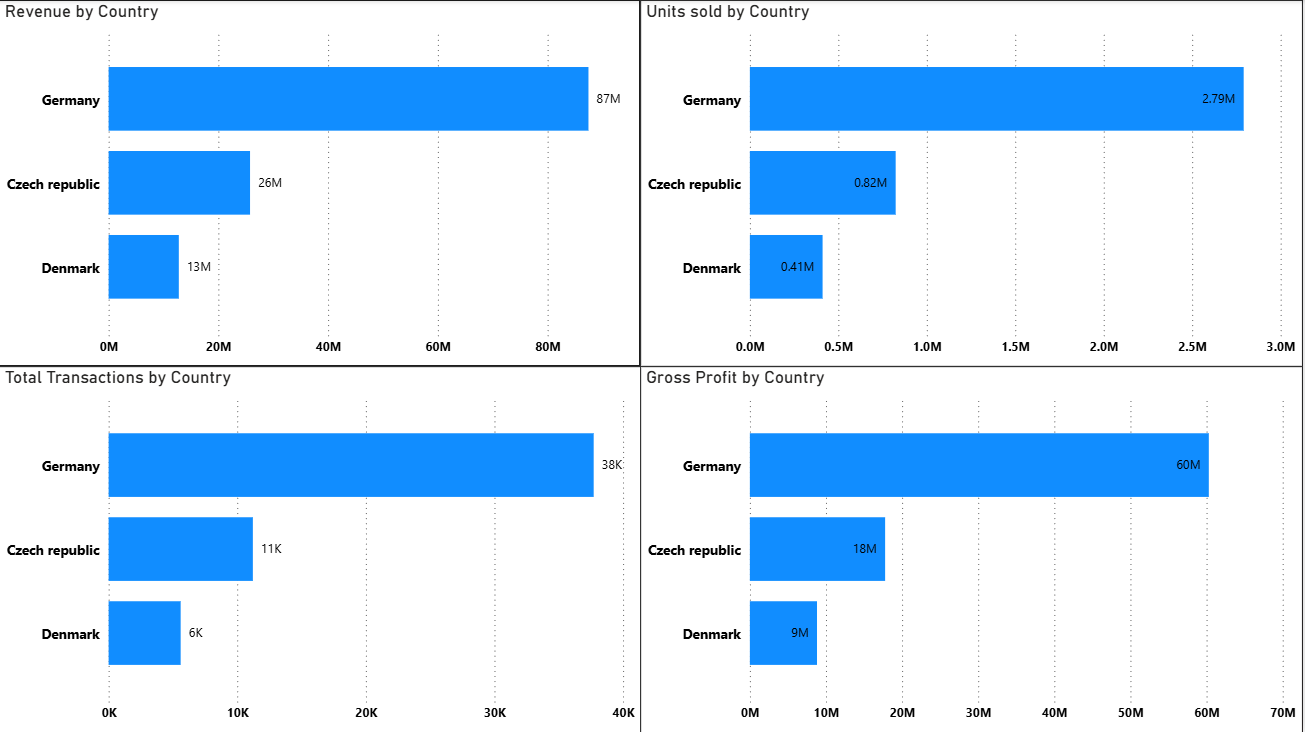

Layout of this report page (visuals, bound fields, positions):
{"tool":"powerbi","page":{"name":"Country/Town-wise Performance","canvas":[1280,720],"ordinal":5},"visuals":[{"type":"clusteredBarChart","title":"Revenue by Country","fields":{"Category":["DimGeography.Country","DimGeography.Town"],"Y":["Sum(FactSales.Total Revenue)"]},"box":[0,0,630,360],"z":0},{"type":"clusteredBarChart","title":"Units sold by Country","fields":{"Category":["DimGeography.Country","DimGeography.Town"],"Y":["Sum(FactSales.Units)"]},"box":[630,0,650,360],"z":1000},{"type":"clusteredBarChart","title":"Total Transactions by Country","fields":{"Category":["DimGeography.Country","DimGeography.Town"],"Y":["FactSales.Total Transactions"]},"box":[0,360,630,360],"z":2000},{"type":"clusteredBarChart","title":"Gross Profit by Country","fields":{"Category":["DimGeography.Country","DimGeography.Town"],"Y":["Sum(FactSales.Gross Profit)"]},"box":[630,360,650,360],"z":3000}]}

Visuals, with their boxes in screenshot pixels (x1, y1, x2, y2), scaled from the page's 1280x720 canvas onto the 1305x732 screenshot:
"Revenue by Country" clusteredBarChart: box(0, 0, 642, 366)
"Units sold by Country" clusteredBarChart: box(642, 0, 1304, 366)
"Total Transactions by Country" clusteredBarChart: box(0, 366, 642, 731)
"Gross Profit by Country" clusteredBarChart: box(642, 366, 1304, 731)
